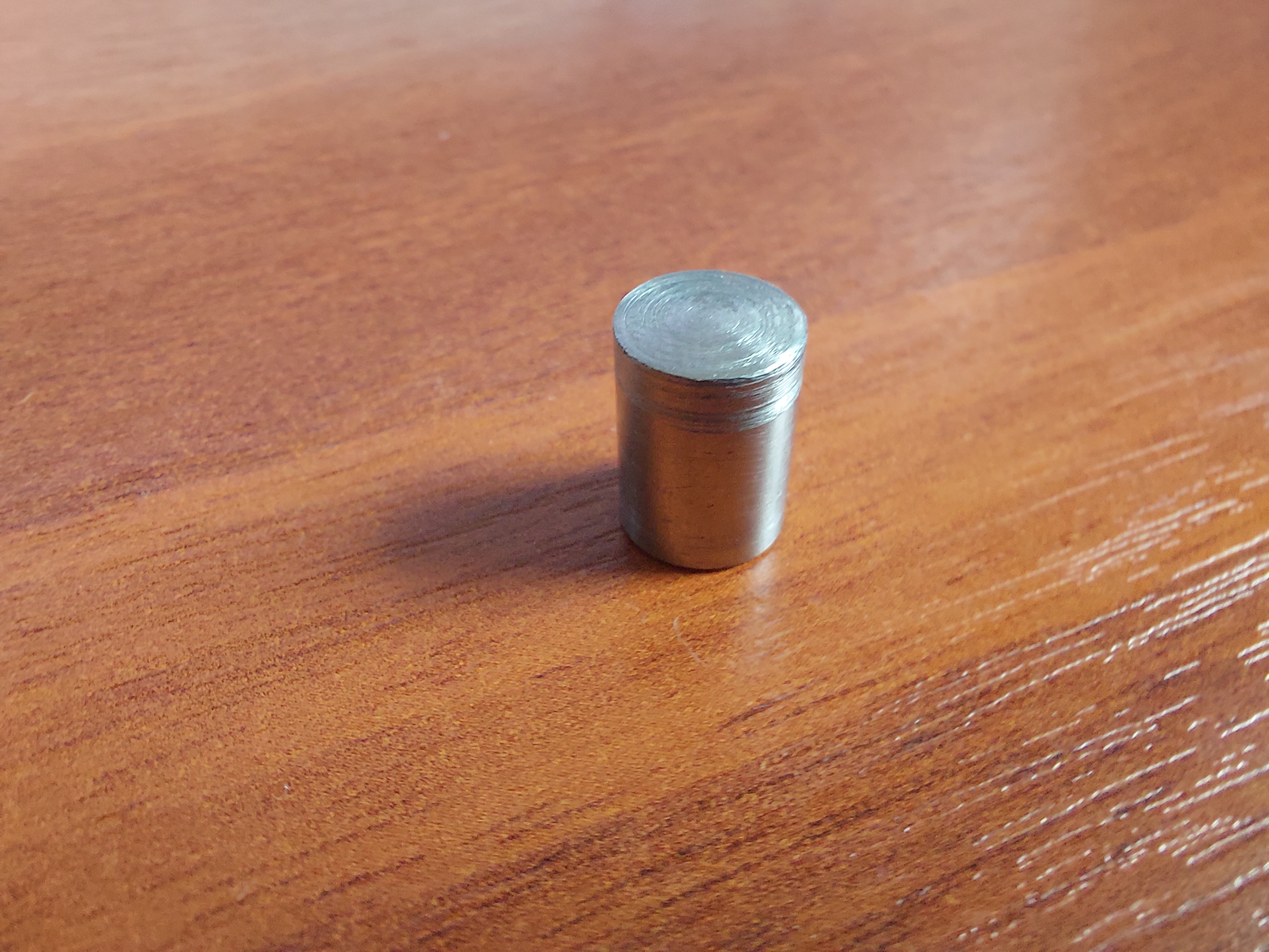tablet: (606, 273, 813, 575)
